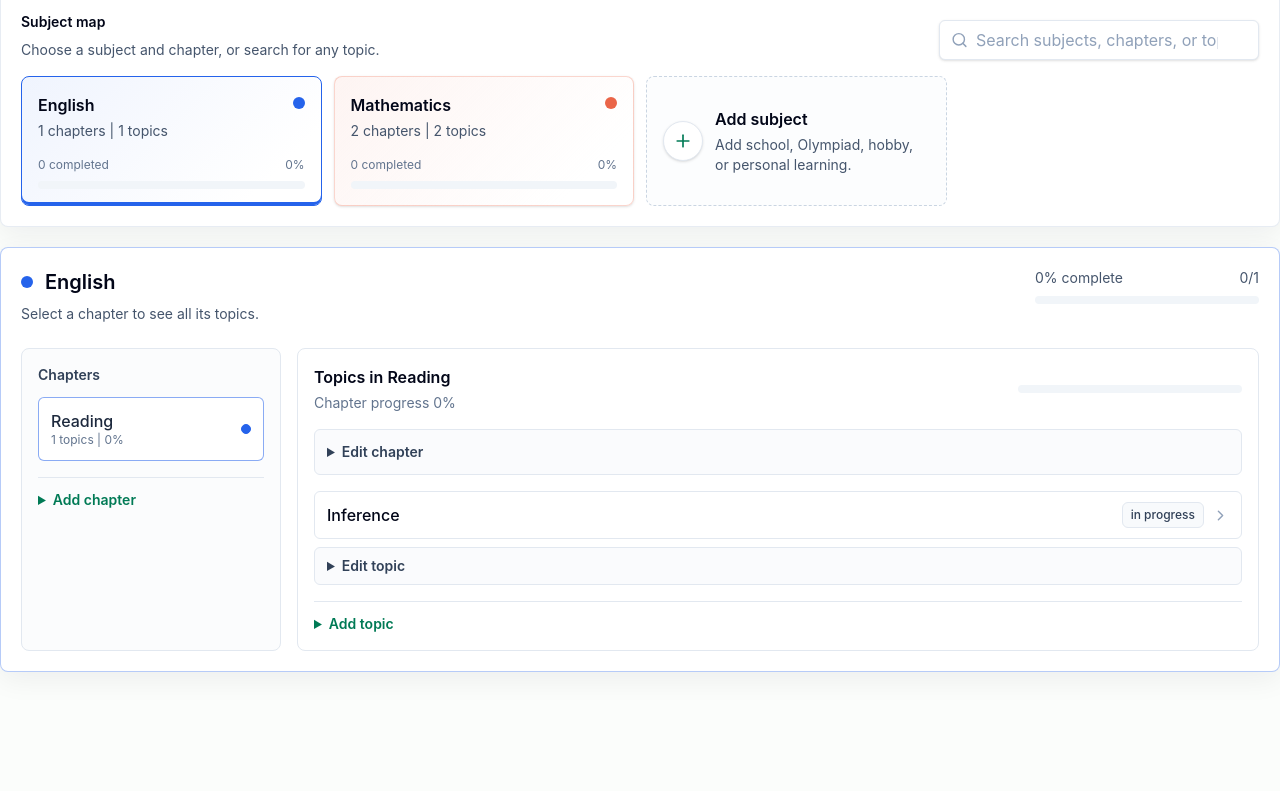
Scenario: KidSubjectExplorer › lets a kid open chapter and topic management controls
What coordinates should you click on to do the following:
click the heading "Edit chapter"
I would click on:
 (383, 452)
Its box is [342,443,423,460].
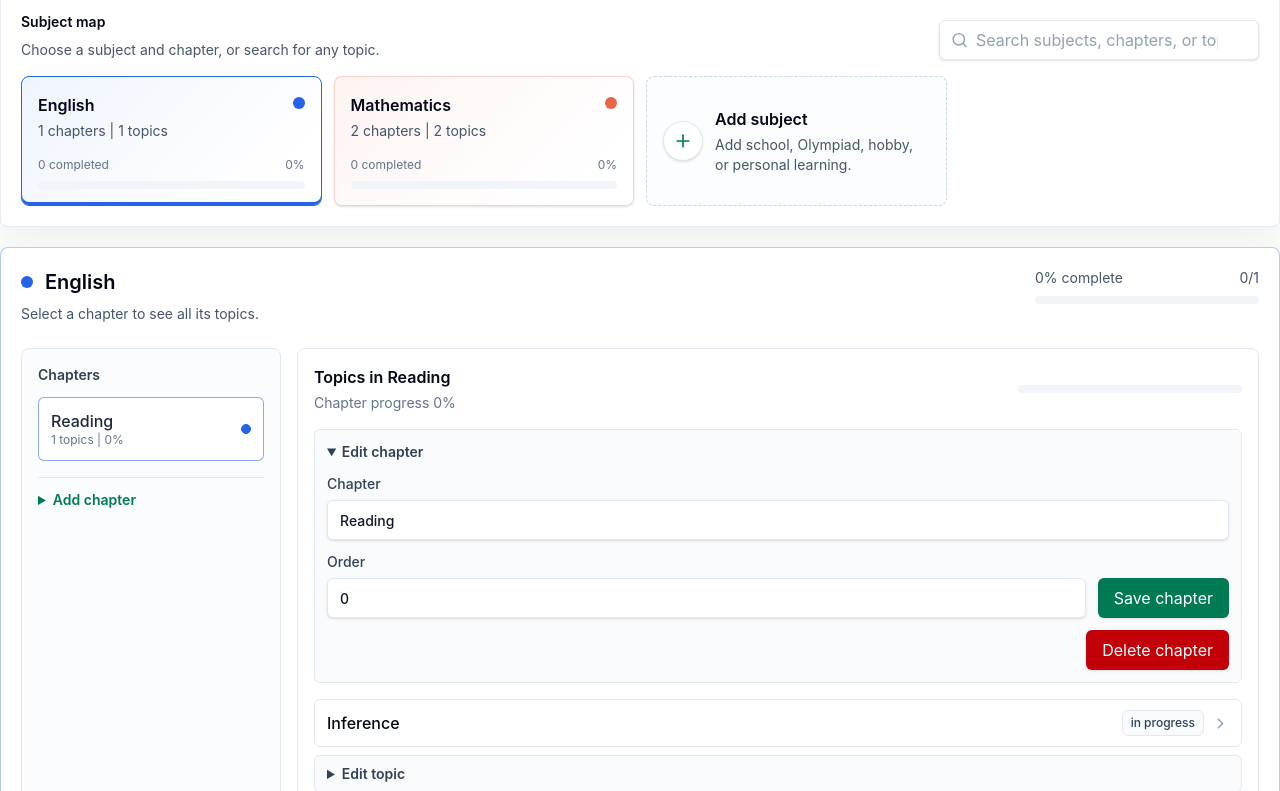
What coordinates should you click on to do the following:
click the heading "Edit topic"
I would click on:
 (373, 774)
Its box is [342,765,405,782].
(page scrolled)
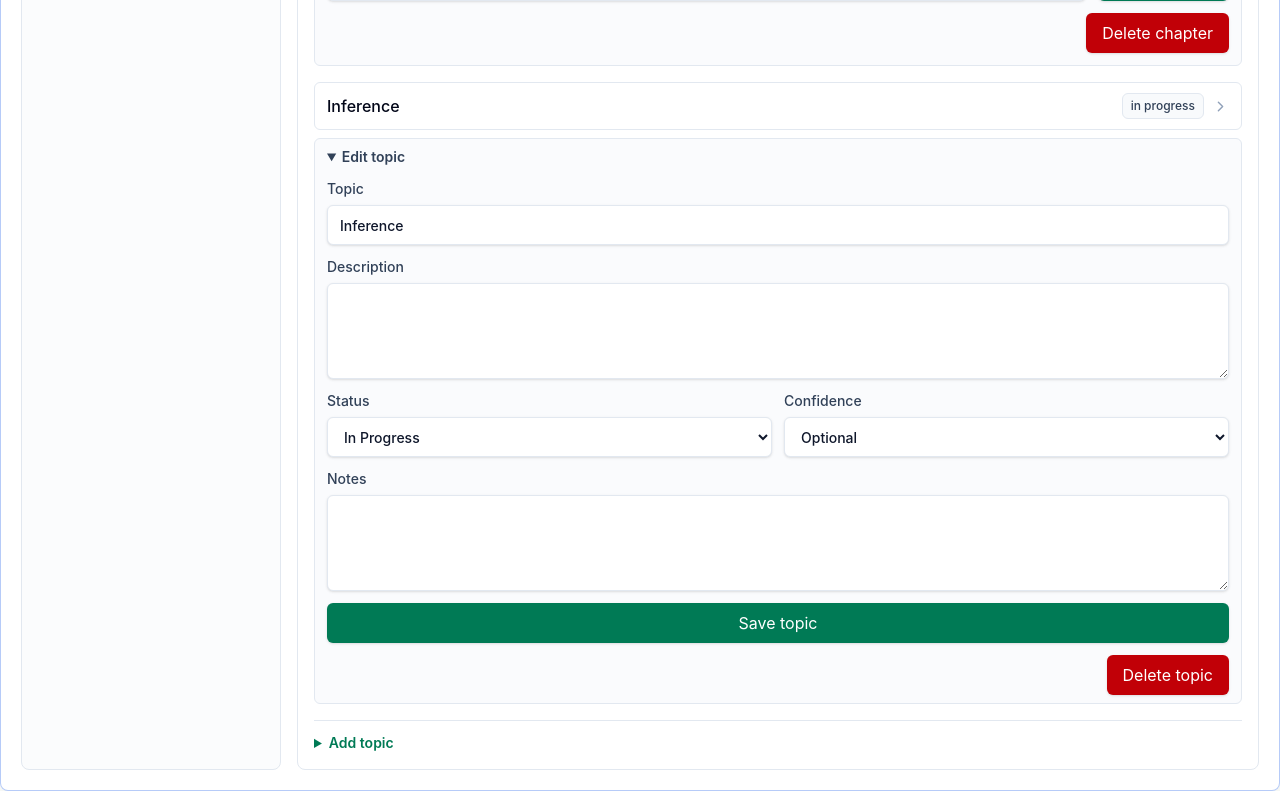
Result: the button "Delete chapter" is shown at [1086,13,1229,53]
Result: the field showing "Inference" is shown at [327,205,1229,245]
Result: the button "Delete topic" is shown at [1106,655,1229,695]
